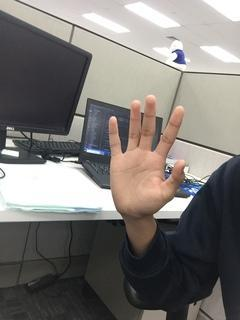hand: (107, 92, 186, 218)
